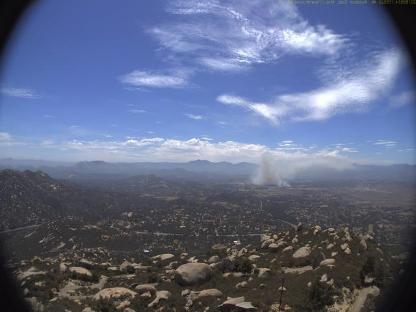smoke: (250, 148, 356, 188)
